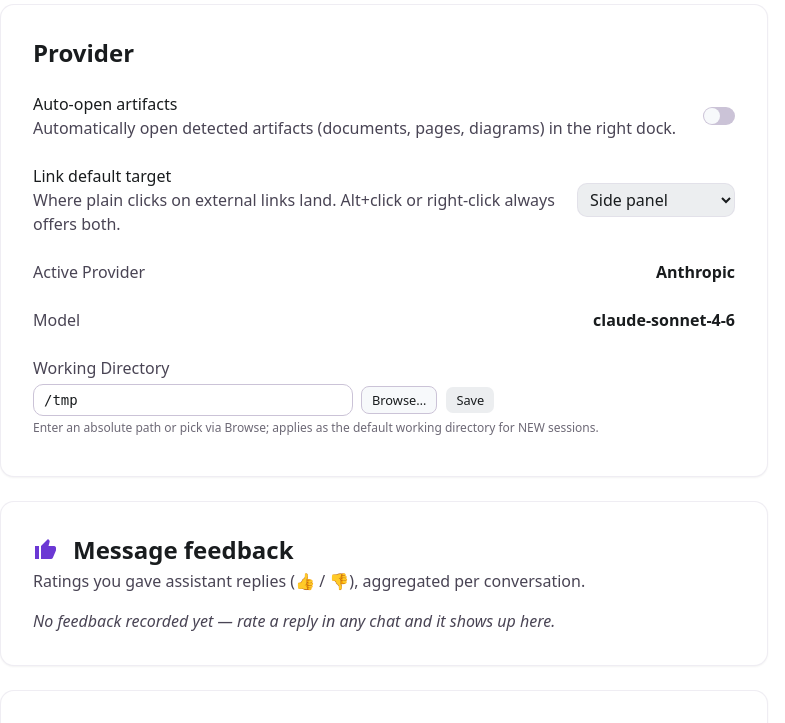
GeneralSettings › Default working directory (writable) › a missing path shows the inline error and persists nothing
(page scrolled)
Replace the text in the field with test id "settings-working-dir-input" with "/home/me/does-not-exist" at [193, 400], box [33, 384, 353, 416]
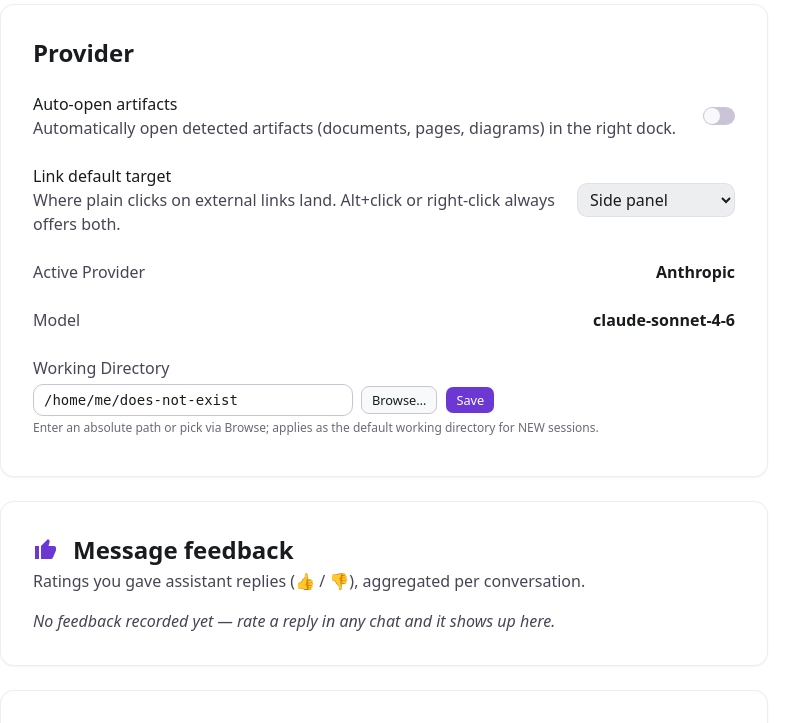
Click the button with test id "settings-working-dir-save" at [470, 400], box [445, 386, 495, 414]
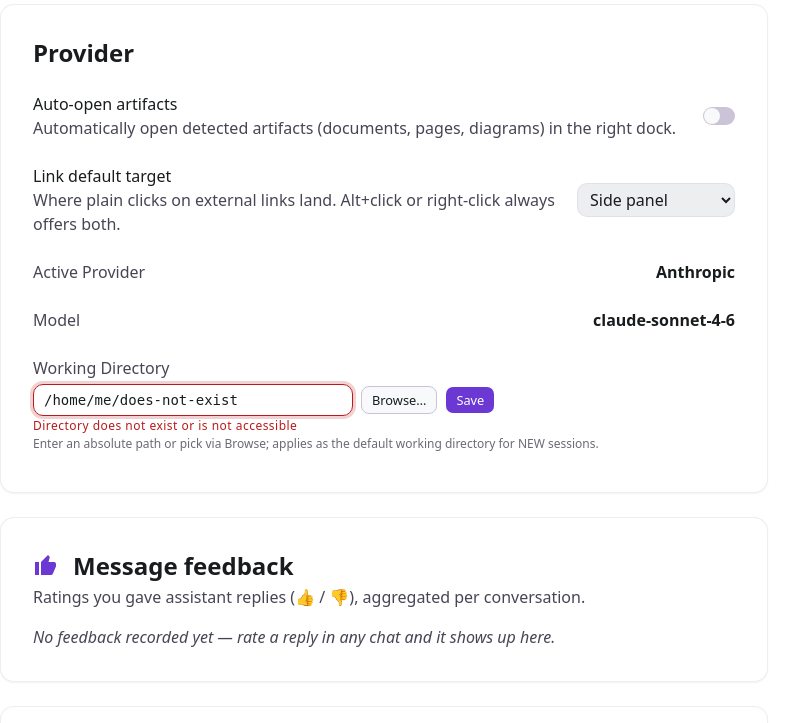
expect the message with test id "settings-working-dir-error" reads "Directory does not exist or is not accessible": met, box [33, 417, 297, 434]
